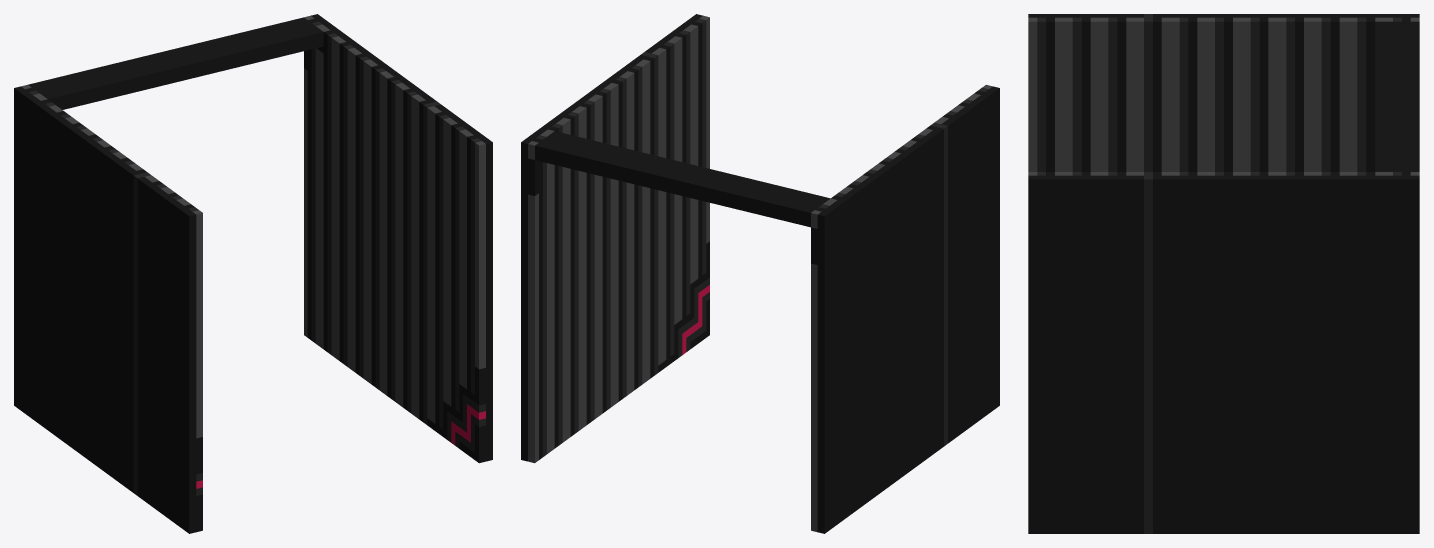
The model's file is mesh_stairway_3.obj.
The picture shows the model from 3 angles, left to right: view 1: azimuth 30°, elevation 25°; view 2: azimuth 150°, elevation 25°; view 3: azimuth 270°, elevation 25°; orthographic projection. The views are drawn at different scales.
Size of the model in its own units: 4.4 by 4.4 by 4.4.
Materials: 1 (1 with a texture image).
